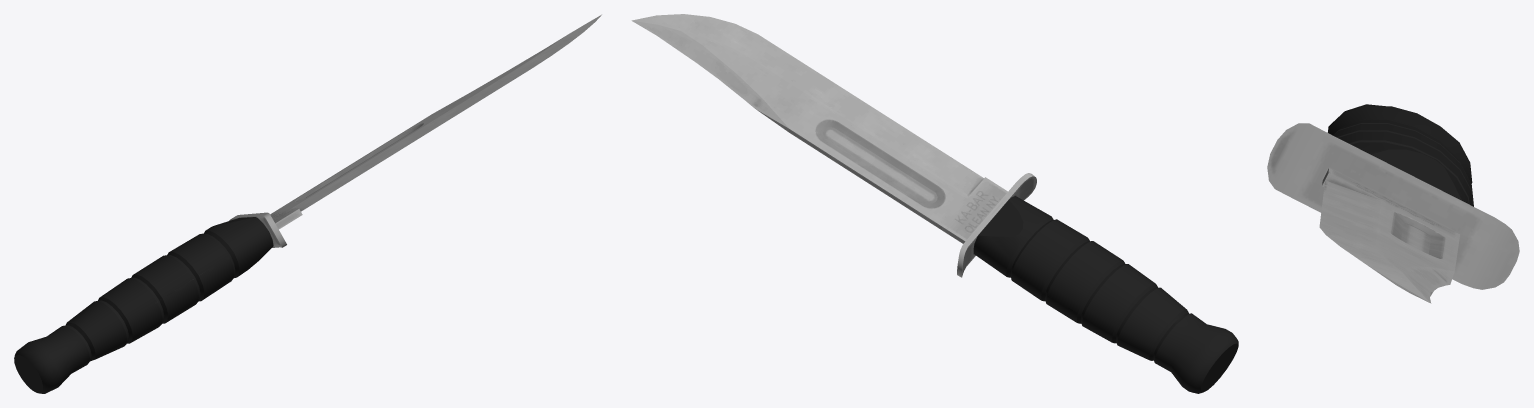
File: Kabar_FP.glb
3 renders of one model, left to right at view 1: azimuth 30°, elevation 25°; view 2: azimuth 150°, elevation 25°; view 3: azimuth 270°, elevation 25°, orthographic. The views are drawn at different scales.
Visible parts, largest first — view 1: Kabar_upd; view 2: Kabar_upd; view 3: Kabar_upd.
Part boxes in pixels (x1,y1,x2,y2): Kabar_upd: [14, 14, 601, 393]; Kabar_upd: [631, 14, 1238, 393]; Kabar_upd: [1267, 104, 1519, 303].
Size of the model in its own units: 0.2696 by 0.1041 by 0.0502.
Materials: 1 (1 with a texture image).
